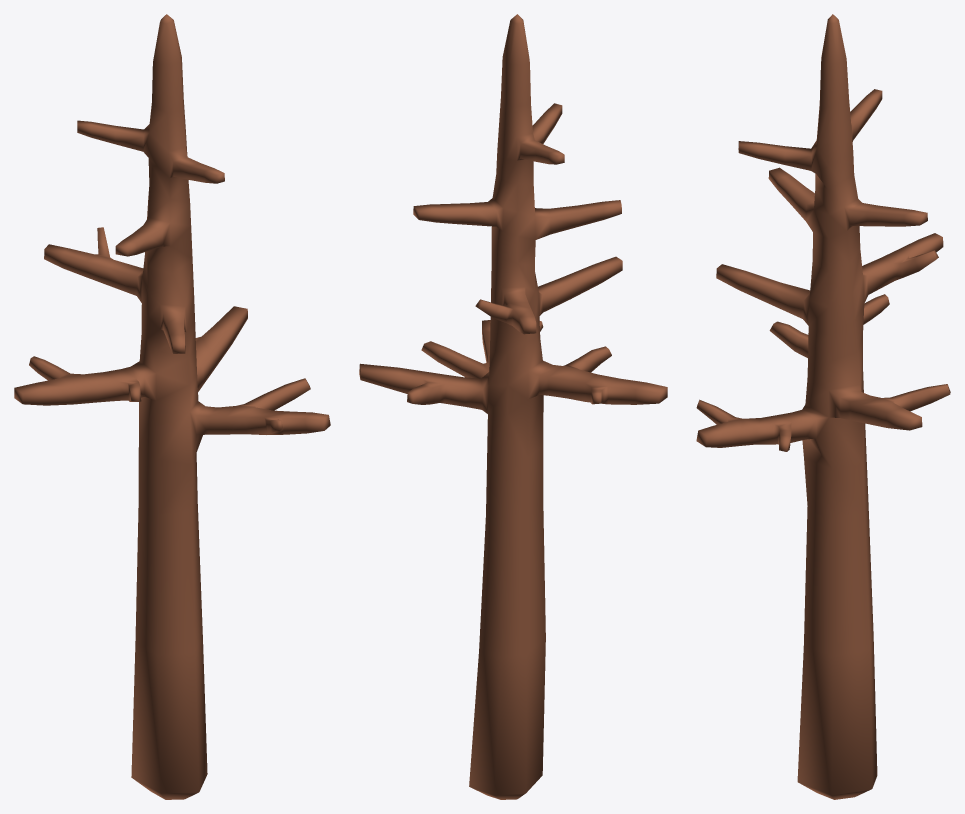
File: DeadTrunk_A_01_LOD2.gltf
The picture shows the model from 3 angles, left to right: view 1: azimuth 30°, elevation 25°; view 2: azimuth 150°, elevation 25°; view 3: azimuth 270°, elevation 25°; orthographic projection.
Visible parts, largest first — view 1: DeadTrunk_A_01_LOD2_Cylinder.606; view 2: DeadTrunk_A_01_LOD2_Cylinder.606; view 3: DeadTrunk_A_01_LOD2_Cylinder.606.
Boxes of the visible parts, x1,y1,x2,y2 form: DeadTrunk_A_01_LOD2_Cylinder.606: (14, 14, 330, 799); DeadTrunk_A_01_LOD2_Cylinder.606: (359, 14, 667, 799); DeadTrunk_A_01_LOD2_Cylinder.606: (696, 14, 950, 799).
Bounding box in the file's own units: 5.09 × 14.21 × 4.23.
1 material, 1 textured.
